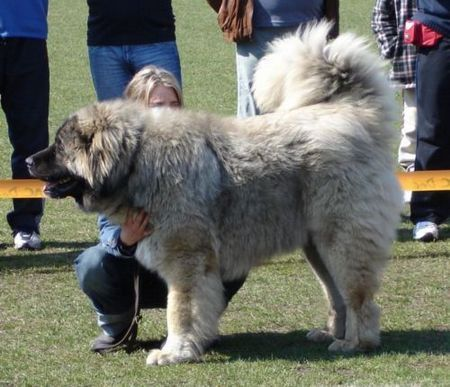cau_ovcharka: (25, 15, 404, 366)
human_face: (148, 89, 180, 109)
person: (76, 64, 248, 354), (206, 0, 339, 122), (0, 0, 50, 247), (403, 0, 450, 242), (85, 0, 182, 101), (371, 0, 417, 201)
